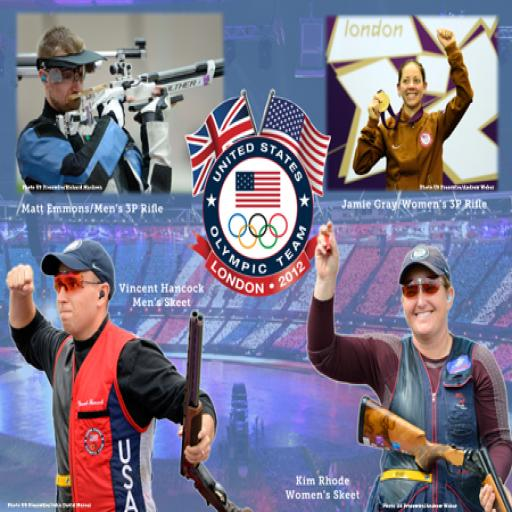shooting: (15, 24, 177, 197)
